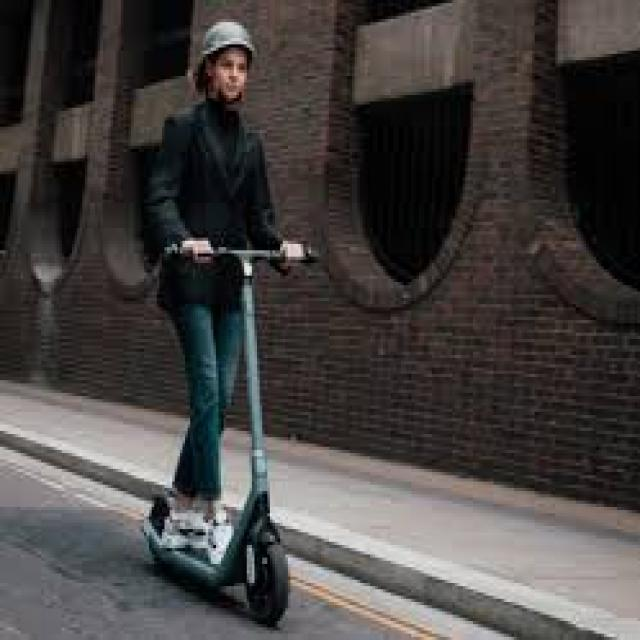helmet: (136, 7, 326, 632)
